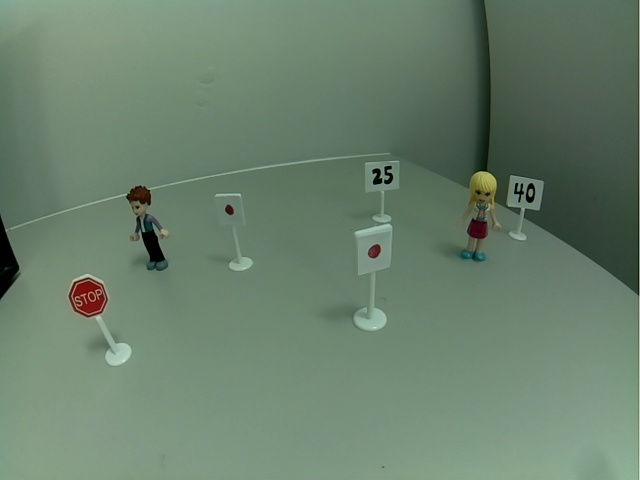people: (123, 185, 174, 273), (454, 169, 501, 263)
red light: (354, 225, 393, 276), (214, 192, 247, 229)
speed 25: (362, 159, 402, 193)
speed 40: (504, 172, 545, 211)
stop: (67, 274, 111, 321)
